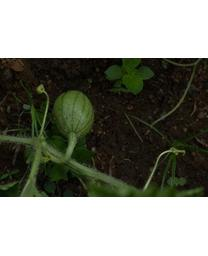watermelon: (48, 89, 98, 141)
